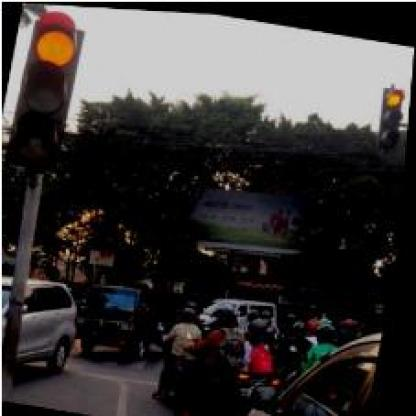red: (5, 6, 87, 174), (376, 79, 408, 145)
